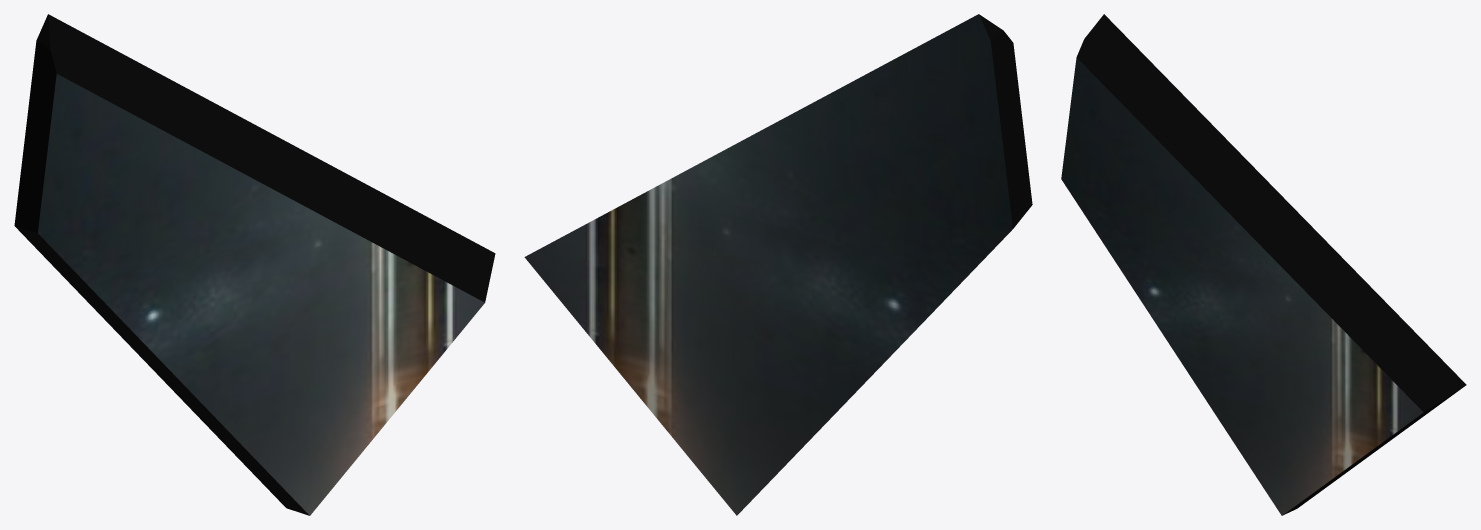
Rendered from Puzzle_2_Cell_03.glb.
The picture shows the model from 3 angles, left to right: view 1: azimuth 30°, elevation 25°; view 2: azimuth 150°, elevation 25°; view 3: azimuth 330°, elevation 25°; orthographic projection. The views are drawn at different scales.
Parts seen in each view (by area): view 1: Puzzle_1_cell.003; view 2: Puzzle_1_cell.003; view 3: Puzzle_1_cell.003.
Boxes of the visible parts, x1,y1,x2,y2 form: Puzzle_1_cell.003: [14, 14, 495, 515]; Puzzle_1_cell.003: [524, 14, 1032, 515]; Puzzle_1_cell.003: [1061, 14, 1466, 515].
Size of the model in its own units: 1.95 by 2.14 by 0.15.
Materials: 2 (1 with a texture image).
